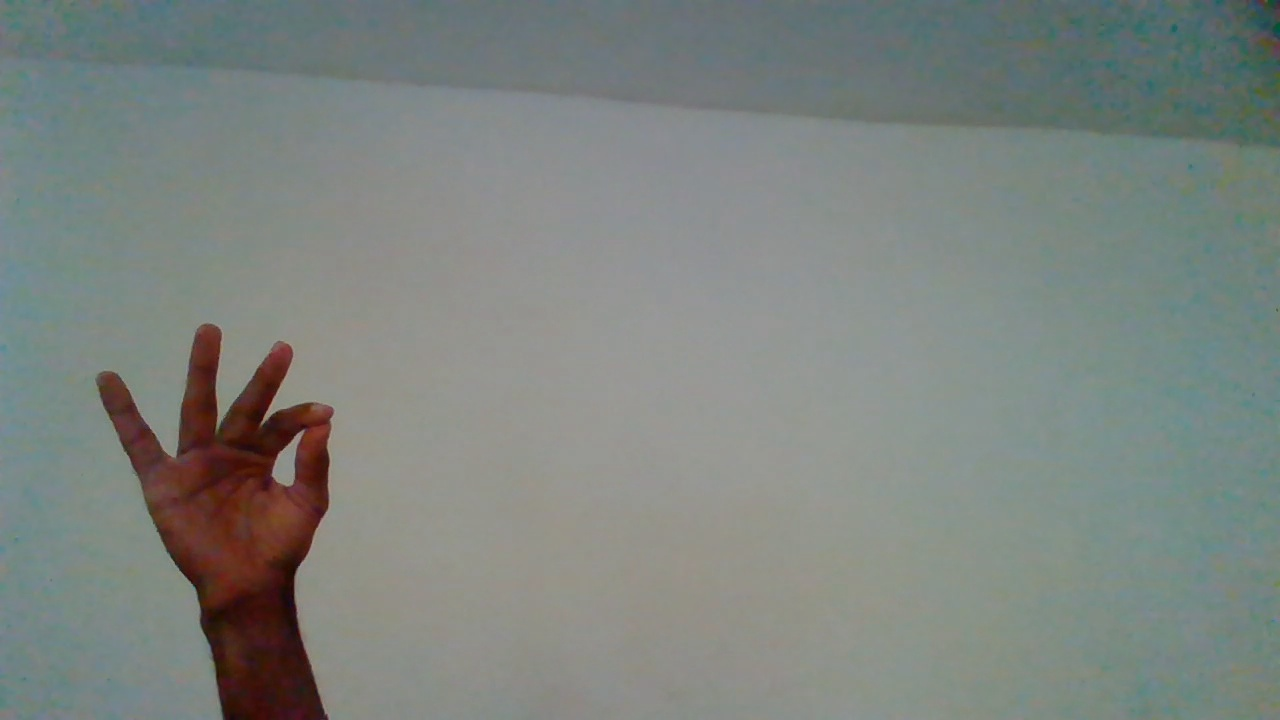le: (90, 323, 338, 701)
